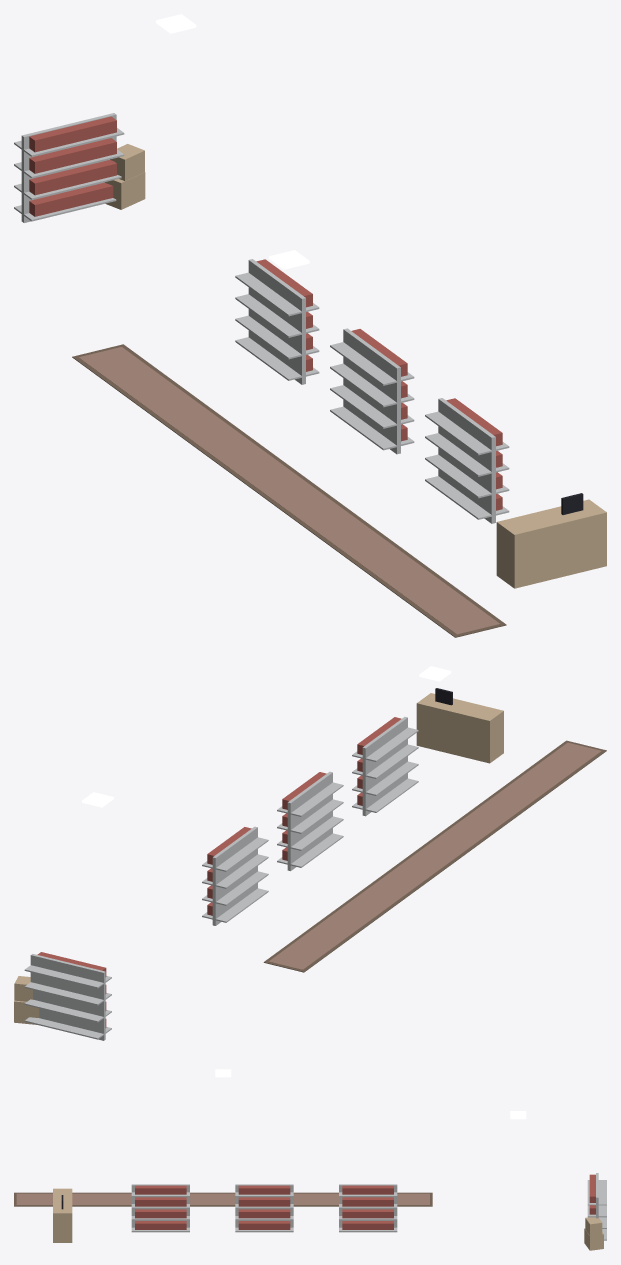
File: fine-s0.glb
3 renders of one model, top to bottom at view 1: azimuth 30°, elevation 25°; view 2: azimuth 150°, elevation 25°; view 3: azimuth 270°, elevation 25°, orthographic. The views are drawn at different scales.
Parts seen in each view (by area): view 1: soft-s0, shelving.000, shop-counter.000, shelf.000, shelf.001, shelf.002, cardboard-box.000; view 2: soft-s0, shelving.000, shop-counter.000, shelf.001, shelf.002, shelf.000, cardboard-box.000; view 3: soft-s0, shelf.001, shelf.000, shelf.002, shop-counter.000, shelving.000, cardboard-box.000.
Part boxes in pixels (x1,y1,x2,y2): soft-s0: [72, 344, 506, 637]; shelving.000: [14, 113, 124, 222]; shop-counter.000: [496, 493, 606, 588]; shelf.000: [235, 259, 319, 384]; shelf.001: [330, 328, 414, 454]; shelf.002: [425, 398, 509, 523]; cardboard-box.000: [105, 144, 145, 209]; soft-s0: [263, 740, 606, 972]; shelving.000: [24, 952, 111, 1040]; shop-counter.000: [416, 688, 503, 763]; shelf.001: [277, 771, 343, 871]; shelf.002: [352, 717, 418, 816]; shelf.000: [202, 826, 268, 925]; cardboard-box.000: [14, 976, 39, 1024]; soft-s0: [14, 1192, 432, 1206]; shelf.001: [235, 1184, 293, 1232]; shelf.000: [339, 1184, 397, 1232]; shelf.002: [131, 1184, 189, 1232]; shop-counter.000: [53, 1188, 72, 1242]; shelving.000: [587, 1173, 606, 1240]; cardboard-box.000: [584, 1217, 603, 1250].
Bounding box in the file's own units: 4.23 × 4.33 × 18.3.
